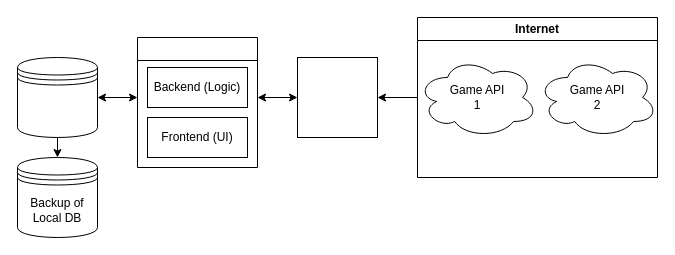
Some shapes in this 675 by 255 pixel diagram are drawn without their labels. Here are the shapes that lost their labels. From the top down, the box of each, then its label:
(16, 56, 98, 138): Local SQLite Database
(136, 36, 258, 168): Main Application
(296, 56, 378, 138): Translation Layer / API Helper
